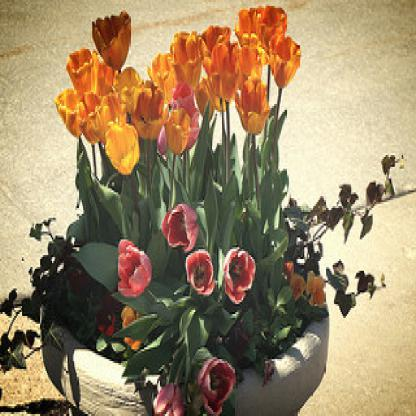TULIP: (58, 11, 387, 405)
